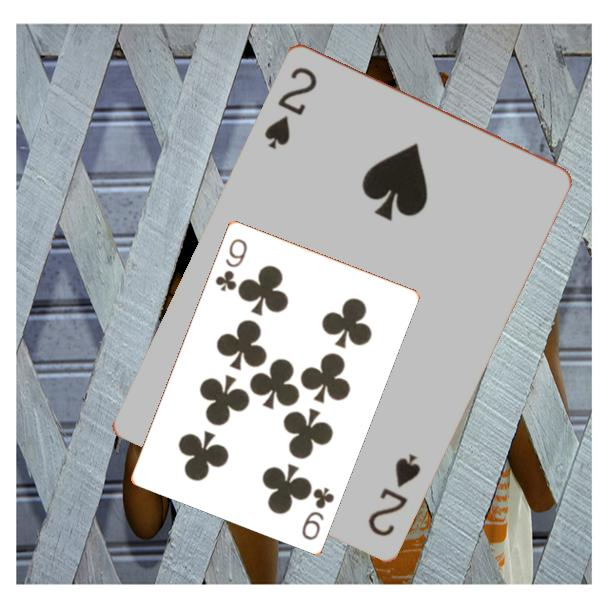c09: (298, 483, 337, 543), (211, 235, 250, 294)
s02: (260, 62, 320, 152), (364, 449, 424, 539)
